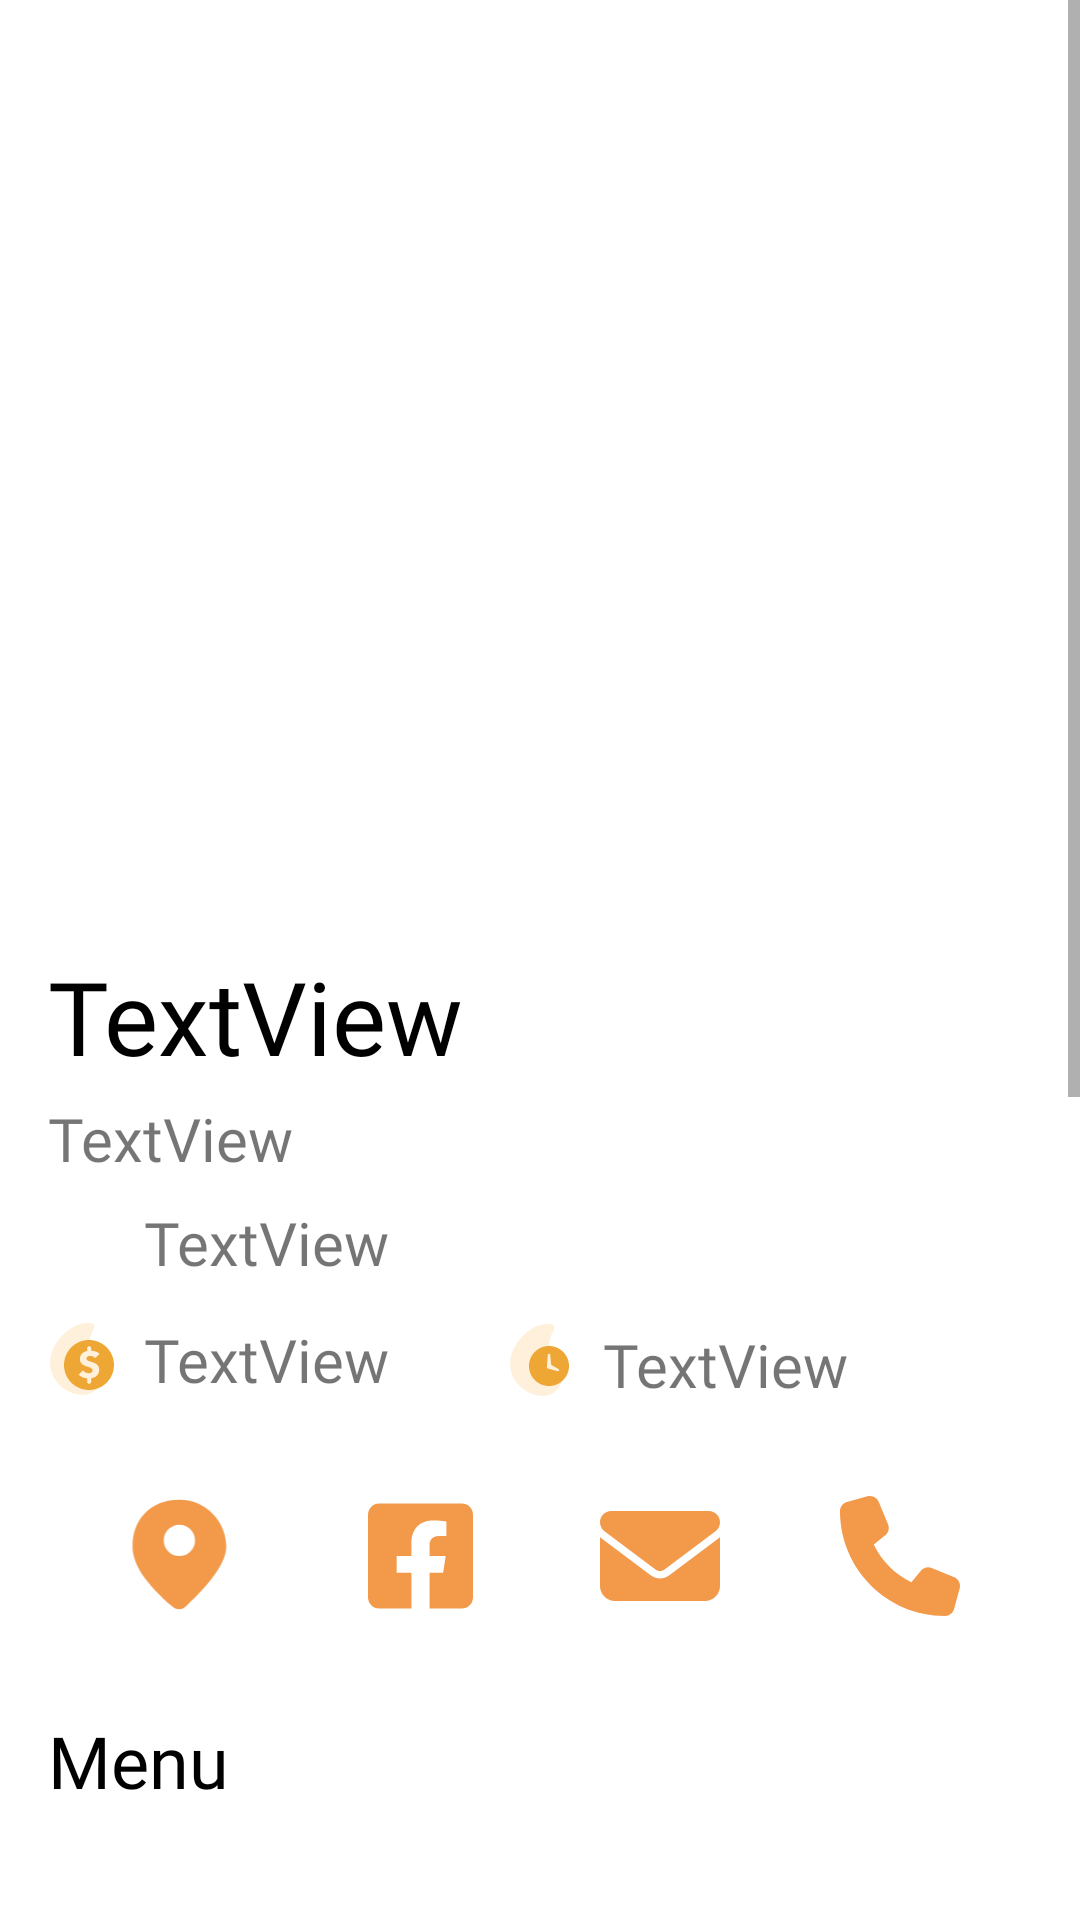

Icons on this 1080x1920 Android screen, each with the point to tap as point (x, y):
mailicon: point (660, 1556)
markericon: point (179, 1554)
phoneicon: point (900, 1556)
time: point (539, 1360)
